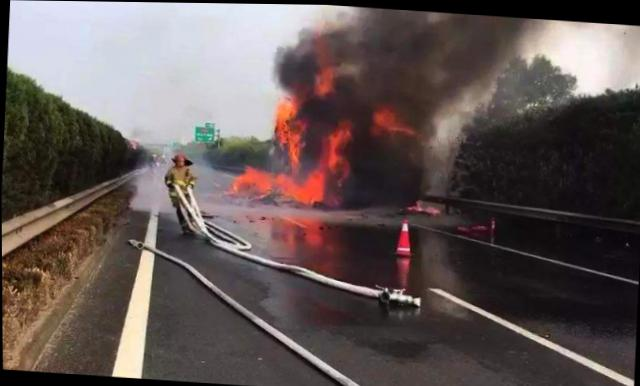fire: (224, 36, 434, 221)
